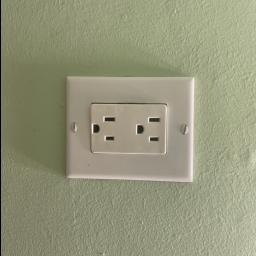outlet: (61, 72, 196, 184)
